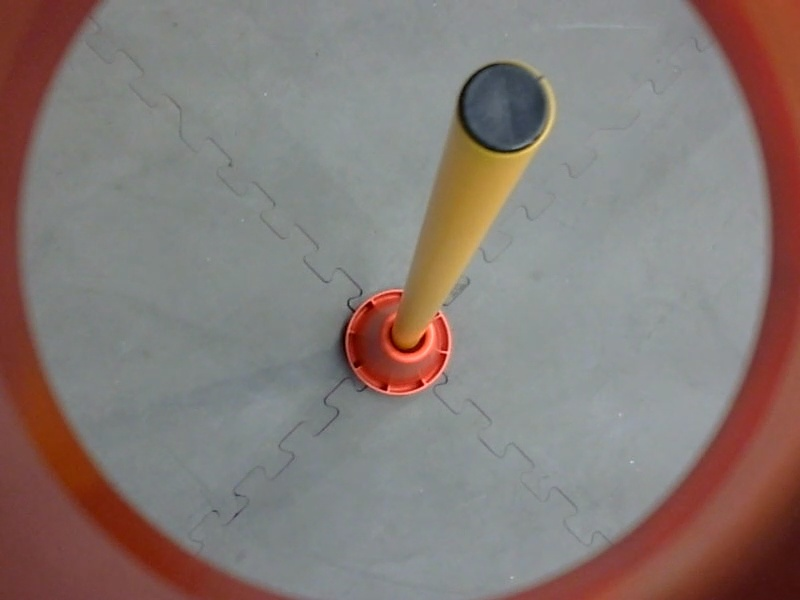tip: (445, 46, 571, 167)
